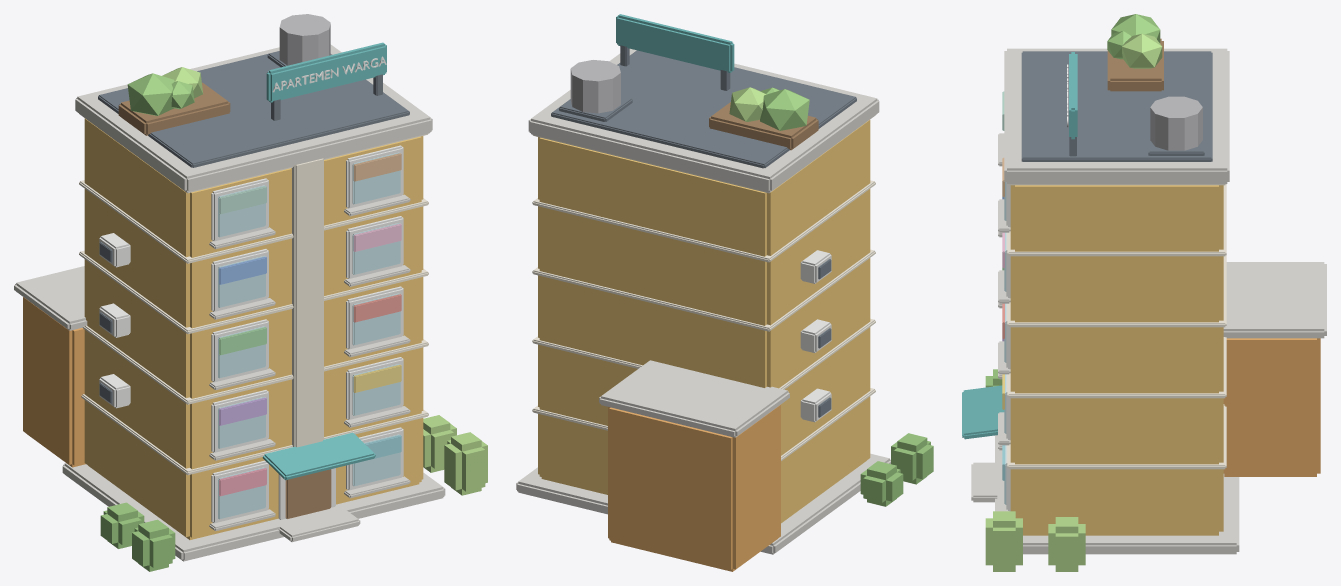
The model's file is apartemen_warga.glb.
3 views of the same model, side by side, from view 1: azimuth 30°, elevation 25°; view 2: azimuth 150°, elevation 25°; view 3: azimuth 270°, elevation 25° (orthographic). The views are drawn at different scales.
Parts seen in each view (by area): view 1: Apt_body, Apt_roofin, Apt_roofcap, Apt_core, Apt_annex, Apt_plinth, Apt_signboard, Apt_awning, Apt_annex_roof, Apt_hedge1, Apt_tank, Apt_planter (+43 smaller); view 2: Apt_body, Apt_annex, Apt_roofin, Apt_roofcap, Apt_annex_roof, Apt_plinth, Apt_signboard, Apt_tank, Apt_planter, Apt_band4, Apt_band3, Apt_hedge0 (+9 smaller); view 3: Apt_body, Apt_roofin, Apt_annex, Apt_roofcap, Apt_annex_roof, Apt_plinth, Apt_tank, Apt_hedge1, Apt_awning, Apt_hedge3, Apt_planter, Apt_band4 (+8 smaller).
Boxes of the visible parts, x1=… form: Apt_body: x1=84, y1=118, x2=423, y2=539; Apt_roofin: x1=98, y1=53, x2=409, y2=167; Apt_roofcap: x1=75, y1=44, x2=432, y2=192; Apt_core: x1=291, y1=158, x2=323, y2=447; Apt_annex: x1=23, y1=297, x2=85, y2=467; Apt_plinth: x1=62, y1=463, x2=445, y2=561; Apt_signboard: x1=266, y1=42, x2=386, y2=102; Apt_awning: x1=262, y1=432, x2=375, y2=480; Apt_annex_roof: x1=14, y1=266, x2=87, y2=330; Apt_hedge1: x1=444, y1=432, x2=487, y2=495; Apt_tank: x1=279, y1=14, x2=330, y2=65; Apt_planter: x1=118, y1=82, x2=230, y2=135; Apt_body: x1=538, y1=120, x2=870, y2=523; Apt_annex: x1=608, y1=404, x2=780, y2=571; Apt_roofin: x1=551, y1=50, x2=856, y2=168; Apt_roofcap: x1=528, y1=48, x2=879, y2=192; Apt_annex_roof: x1=599, y1=360, x2=789, y2=437; Apt_plinth: x1=516, y1=453, x2=890, y2=554; Apt_signboard: x1=616, y1=14, x2=734, y2=72; Apt_tank: x1=570, y1=60, x2=620, y2=113; Apt_planter: x1=709, y1=102, x2=818, y2=150; Apt_band4: x1=532, y1=180, x2=875, y2=262; Apt_band3: x1=532, y1=249, x2=875, y2=331; Apt_hedge0: x1=891, y1=433, x2=933, y2=484; Apt_body: x1=1010, y1=185, x2=1223, y2=535; Apt_roofin: x1=1021, y1=51, x2=1212, y2=161; Apt_annex: x1=1223, y1=338, x2=1320, y2=476; Apt_roofcap: x1=1004, y1=48, x2=1229, y2=183; Apt_annex_roof: x1=1223, y1=262, x2=1326, y2=338; Apt_plinth: x1=995, y1=435, x2=1239, y2=554; Apt_tank: x1=1150, y1=96, x2=1202, y2=150; Apt_hedge1: x1=985, y1=511, x2=1022, y2=571; Apt_awning: x1=962, y1=385, x2=1004, y2=439; Apt_hedge3: x1=1048, y1=517, x2=1085, y2=571; Apt_planter: x1=1107, y1=38, x2=1163, y2=91; Apt_band4: x1=1007, y1=184, x2=1226, y2=256.
Size of the model in its own units: 6.4 by 7.68 by 5.82.
